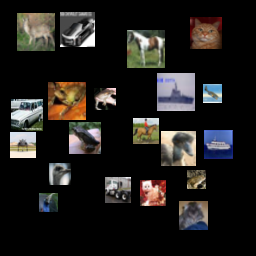airplane: (10, 132, 36, 158), (203, 84, 222, 103)
automobile: (60, 12, 95, 47), (11, 99, 43, 131)
bird: (161, 131, 196, 166), (49, 163, 71, 185), (39, 193, 58, 212)
cat: (190, 17, 222, 49), (179, 201, 208, 230), (140, 180, 166, 206)
deer: (17, 13, 55, 51)
frog: (48, 82, 86, 120), (69, 122, 101, 154), (94, 88, 116, 110), (187, 170, 206, 189)
ship: (157, 73, 195, 111), (204, 130, 233, 159)
